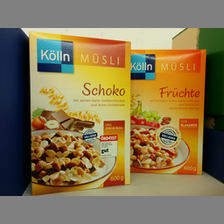cereal: (28, 30, 134, 196), (128, 48, 207, 178)
